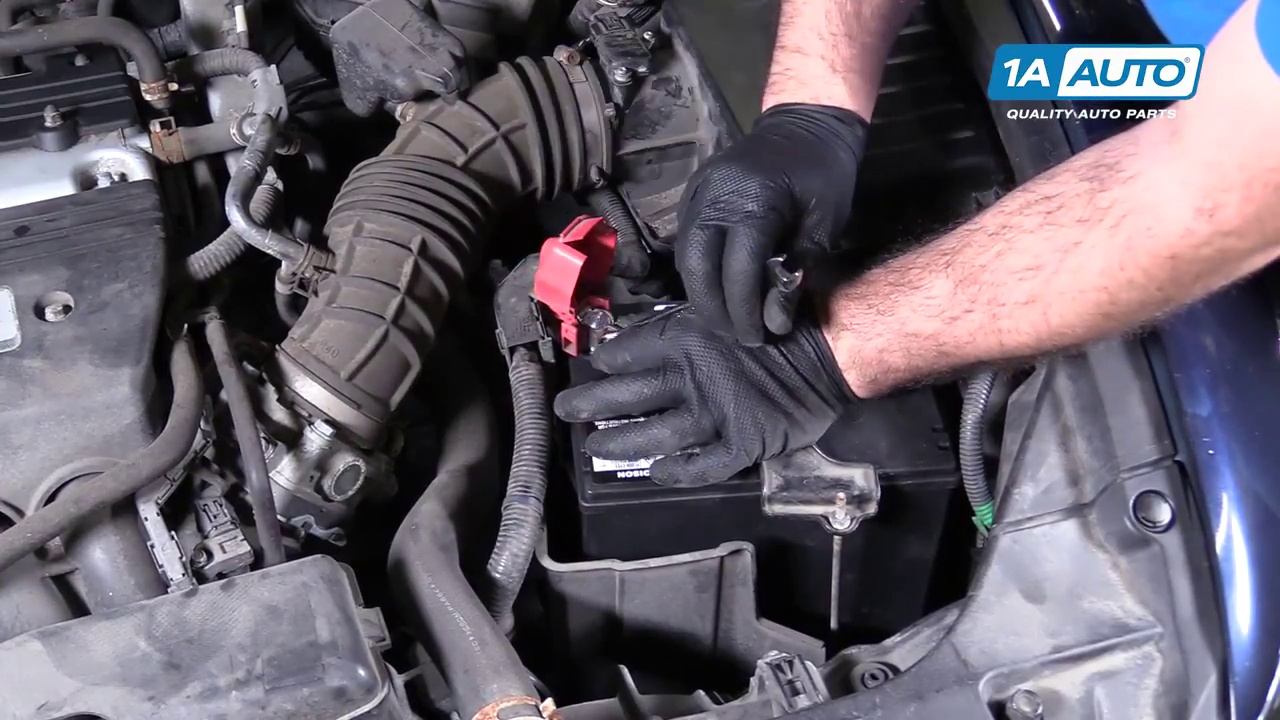battery: (544, 279, 959, 489)
pos_touched: (519, 209, 668, 409)
